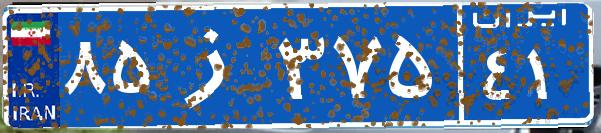1: (525, 38, 570, 115)
3: (273, 28, 330, 110)
4: (475, 38, 525, 113)
5: (385, 28, 445, 110), (110, 28, 158, 105)
7: (330, 28, 385, 110)
8: (57, 26, 110, 107)
ز: (158, 15, 273, 115)
